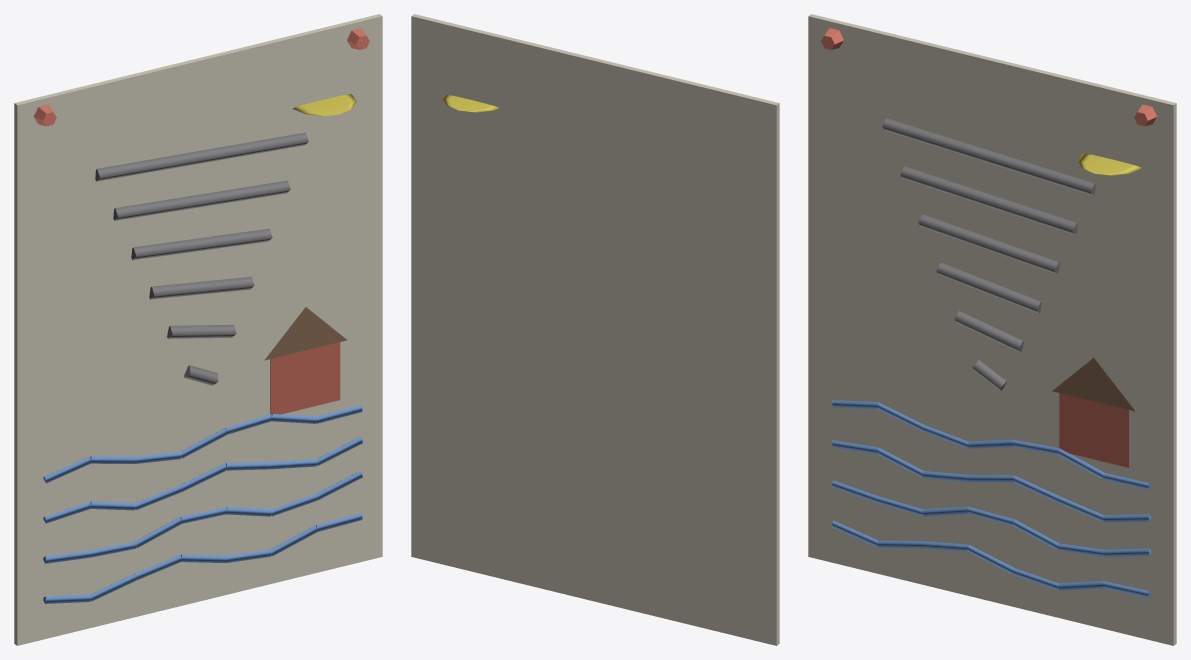
Rendered from cabin_drawing_a.glb.
3 renders of one model, left to right at view 1: azimuth 30°, elevation 25°; view 2: azimuth 150°, elevation 25°; view 3: azimuth 330°, elevation 25°, orthographic.
Visible parts, largest first — view 1: body; view 2: body; view 3: body.
Boxes of the visible parts, box(x1,y1,x2,y2) form: body: box(14, 14, 382, 645); body: box(411, 14, 779, 645); body: box(808, 14, 1176, 645).
Bounding box in the file's own units: 0.21 × 0.297 × 0.034.
